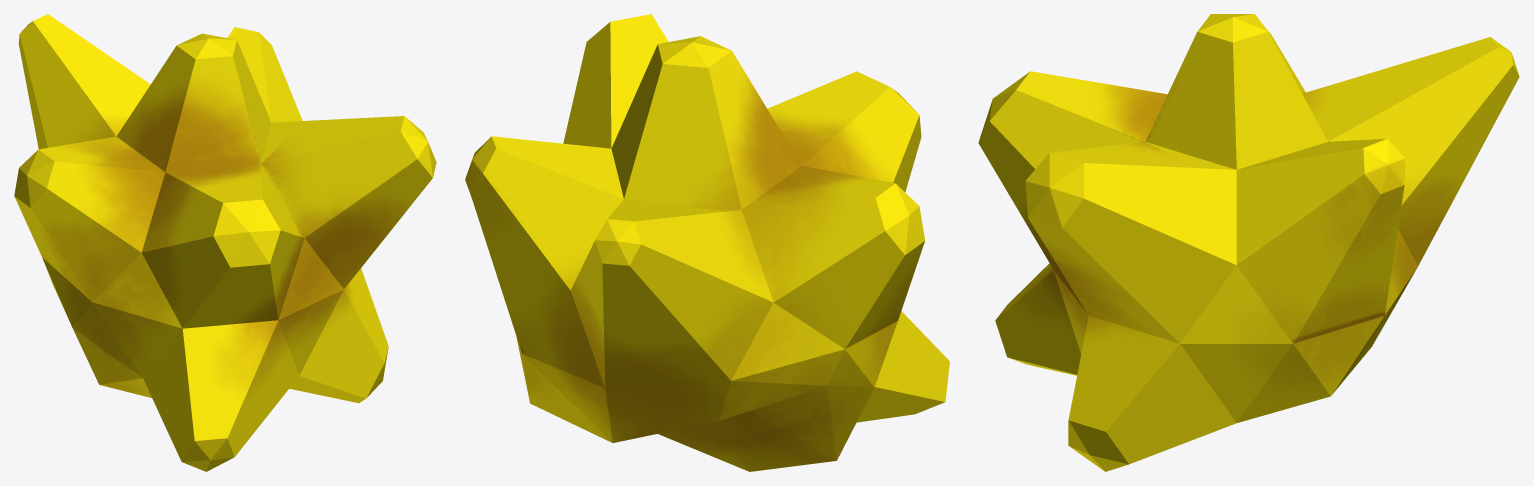
Rendered from SunFruit.fbx.
3 renders of one model, left to right at view 1: azimuth 30°, elevation 25°; view 2: azimuth 150°, elevation 25°; view 3: azimuth 270°, elevation 25°, orthographic. The views are drawn at different scales.
Parts seen in each view (by area): view 1: SunStone; view 2: SunStone; view 3: SunStone.
Boxes of the visible parts, x1,y1,x2,y2 form: SunStone: (14, 14, 436, 471); SunStone: (465, 14, 949, 471); SunStone: (978, 14, 1519, 471).
Size of the model in its own units: 98.52 by 96.83 by 118.
